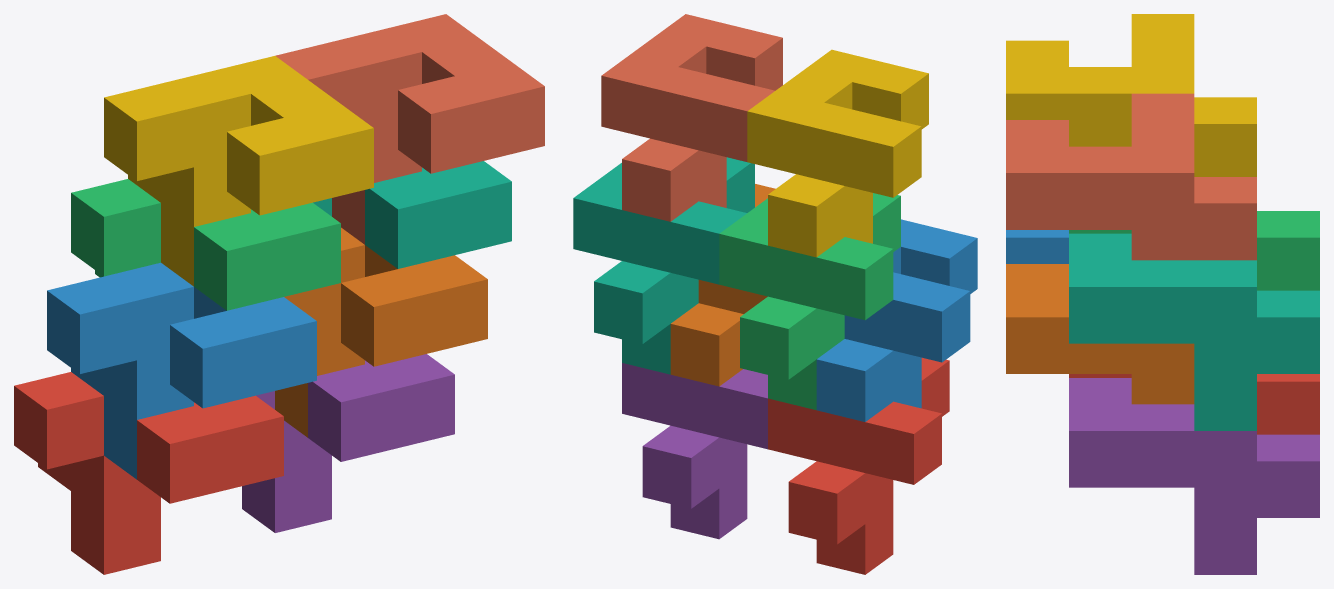
Rendered from tiling.obj.
3 renders of one model, left to right at view 1: azimuth 30°, elevation 25°; view 2: azimuth 150°, elevation 25°; view 3: azimuth 270°, elevation 25°, orthographic. The views are drawn at different scales.
Parts seen in each view (by area): view 1: copy_1_domain_4, copy_1_domain_2, copy_1_domain_1, copy_1_domain_8, copy_1_domain_3, copy_1_domain_5, copy_1_domain_6, copy_1_domain_7; view 2: copy_1_domain_4, copy_1_domain_8, copy_1_domain_1, copy_1_domain_3, copy_1_domain_7, copy_1_domain_2, copy_1_domain_5, copy_1_domain_6; view 3: copy_1_domain_7, copy_1_domain_8, copy_1_domain_5, copy_1_domain_4, copy_1_domain_6, copy_1_domain_3, copy_1_domain_1, copy_1_domain_2.
Boxes of the visible parts, bbox=[...] form: copy_1_domain_4: bbox=[104, 56, 373, 286]; copy_1_domain_2: bbox=[47, 262, 316, 479]; copy_1_domain_1: bbox=[14, 372, 283, 574]; copy_1_domain_8: bbox=[275, 14, 544, 244]; copy_1_domain_3: bbox=[71, 179, 340, 310]; copy_1_domain_5: bbox=[242, 354, 454, 532]; copy_1_domain_6: bbox=[275, 227, 487, 437]; copy_1_domain_7: bbox=[313, 161, 511, 268]; copy_1_domain_4: bbox=[747, 49, 928, 257]; copy_1_domain_8: bbox=[601, 14, 782, 221]; copy_1_domain_1: bbox=[768, 357, 949, 574]; copy_1_domain_3: bbox=[719, 193, 900, 410]; copy_1_domain_7: bbox=[573, 157, 754, 374]; copy_1_domain_2: bbox=[816, 219, 977, 421]; copy_1_domain_5: bbox=[622, 363, 767, 539]; copy_1_domain_6: bbox=[670, 184, 775, 386]; copy_1_domain_7: bbox=[1069, 233, 1319, 430]; copy_1_domain_8: bbox=[1006, 93, 1256, 260]; copy_1_domain_5: bbox=[1069, 378, 1319, 574]; copy_1_domain_4: bbox=[1006, 14, 1256, 176]; copy_1_domain_6: bbox=[1006, 264, 1194, 404]; copy_1_domain_3: bbox=[1069, 211, 1319, 290]; copy_1_domain_1: bbox=[1069, 374, 1319, 434]; copy_1_domain_2: bbox=[1006, 230, 1068, 263].
Size of the model in its own units: 7 by 8 by 5.
